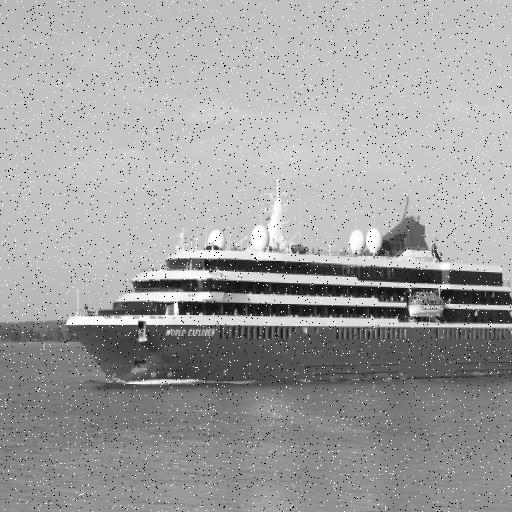cruises: (61, 177, 512, 392)
